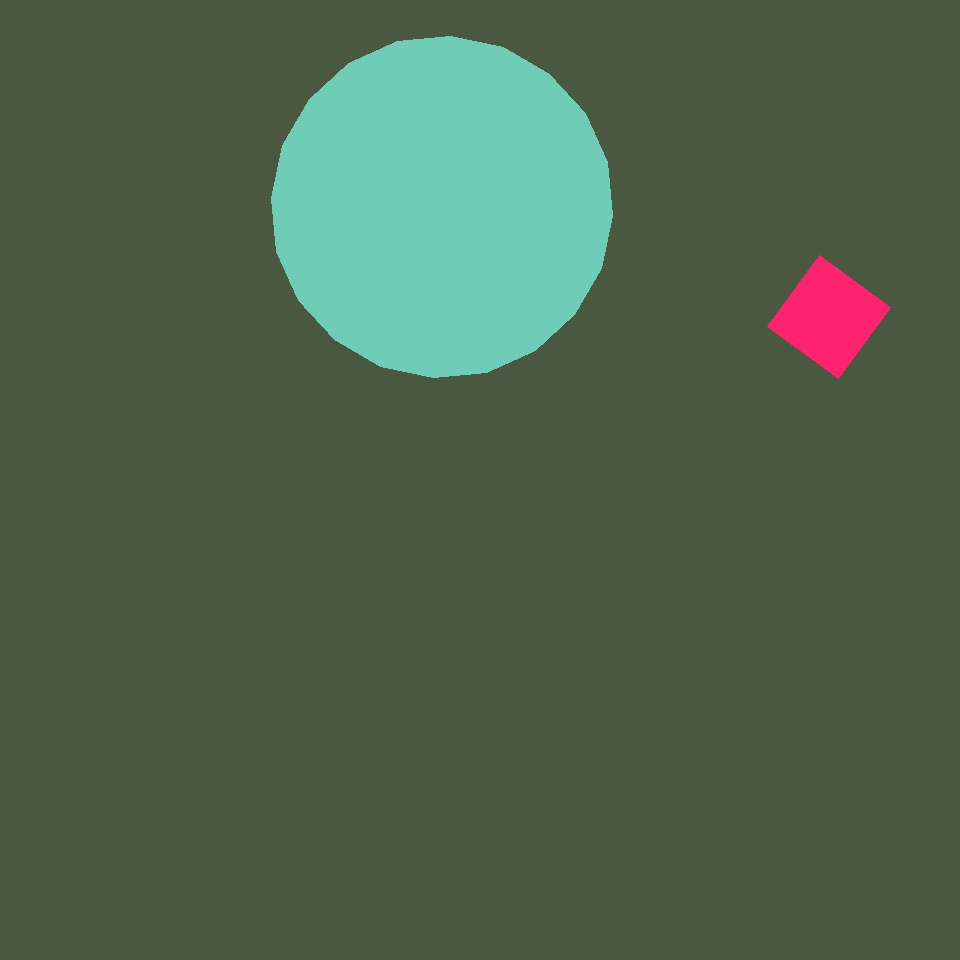square: (429, 3, 635, 208), (768, 255, 890, 378)
triangle: (271, 36, 612, 378), (521, 155, 850, 483), (673, 790, 805, 923)
